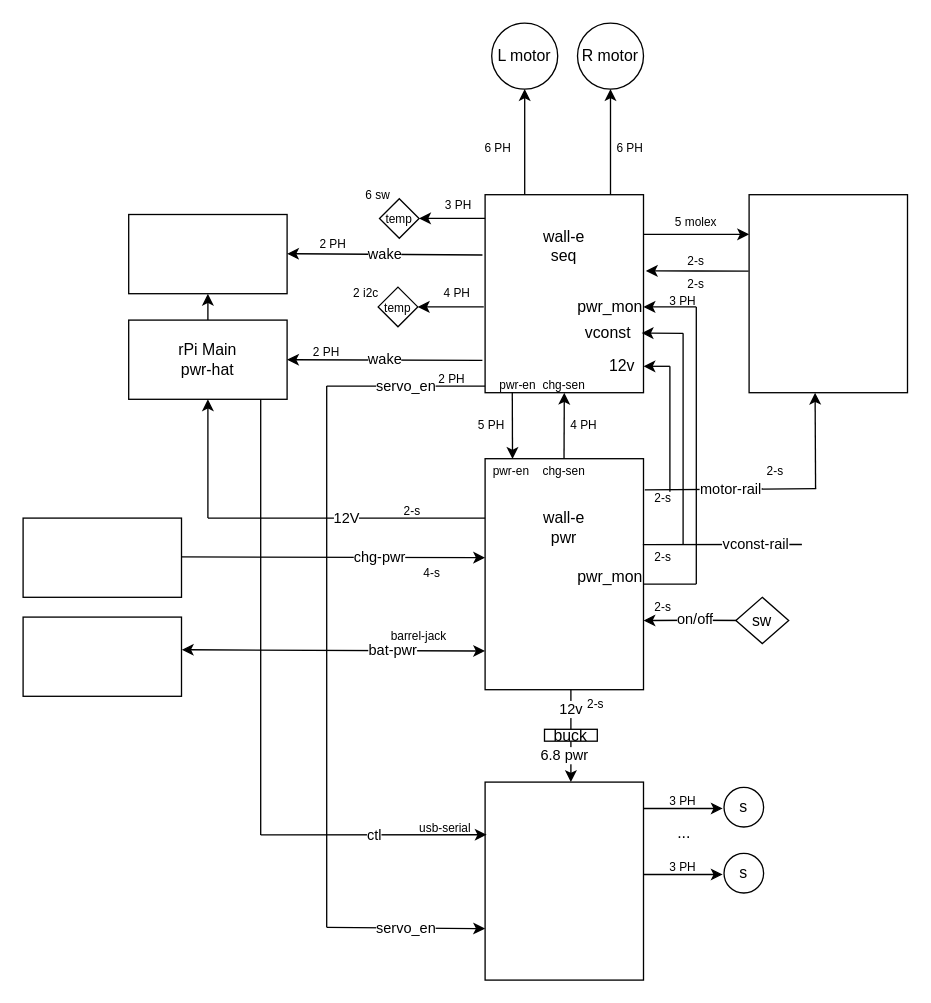
Image size: 931x1003. Some labels were removed from this diagram. The shapes that lost their labels are listed below. From the top down, each one's centre as x and y in pixels, then its label:
At point (207, 253): "rPi Disp pwr-hat".
At point (828, 293): "MDD10Acytron motor driver".
At point (102, 557): "charge dock".
At point (102, 656): "TalentCell Battery".
At point (564, 880): "wall-e servo".
